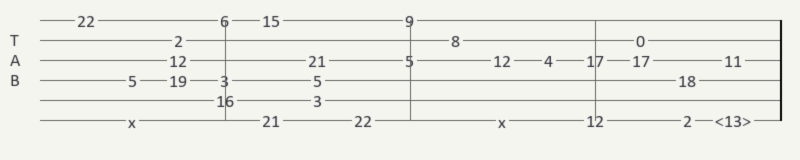0: (636, 33, 649, 48)
11: (724, 53, 746, 68)
12: (169, 53, 191, 68), (493, 53, 515, 68), (586, 113, 608, 128)
15: (262, 13, 284, 28)
16: (216, 93, 238, 108)
17: (586, 53, 608, 68), (632, 53, 654, 68)
18: (678, 73, 700, 88)
19: (169, 73, 191, 88)
2: (174, 33, 187, 48), (683, 113, 696, 128)
21: (262, 113, 284, 128), (308, 53, 330, 68)
22: (77, 13, 99, 28), (354, 113, 376, 128)
3: (220, 73, 233, 88), (313, 93, 326, 108)
4: (544, 53, 557, 68)
5: (128, 73, 141, 88), (313, 73, 326, 88), (405, 53, 418, 68)
6: (220, 13, 233, 28)
8: (451, 33, 464, 48)
9: (405, 13, 418, 28)
harmonic: (715, 113, 755, 128)
x: (128, 114, 140, 126), (498, 114, 510, 126)
